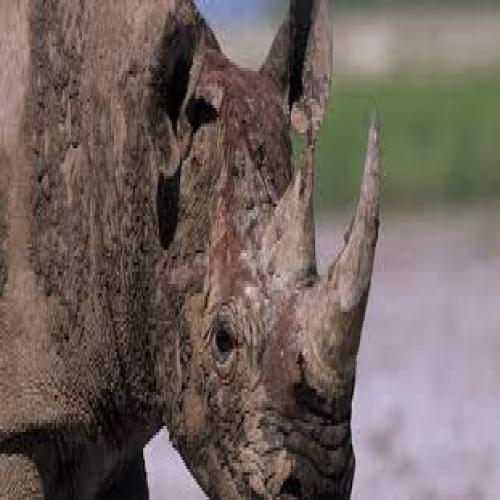rhino-endangered: (5, 11, 385, 494)
